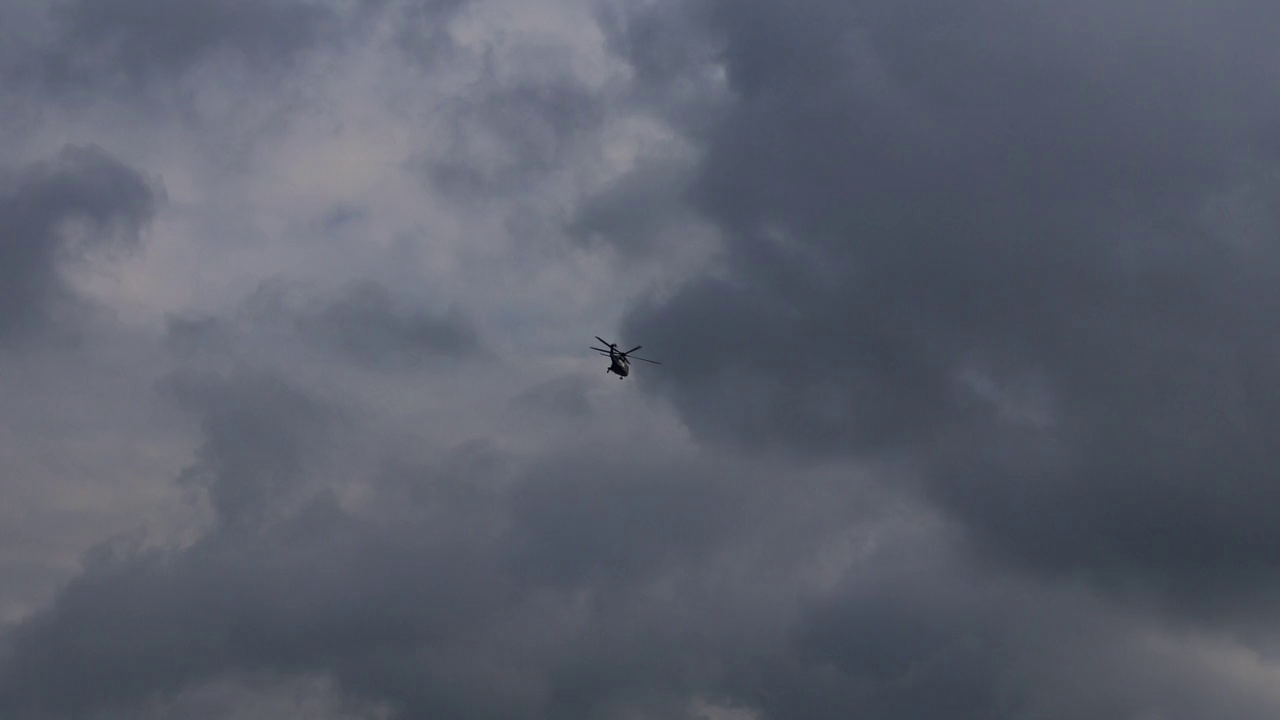heli: (590, 335, 661, 380)
